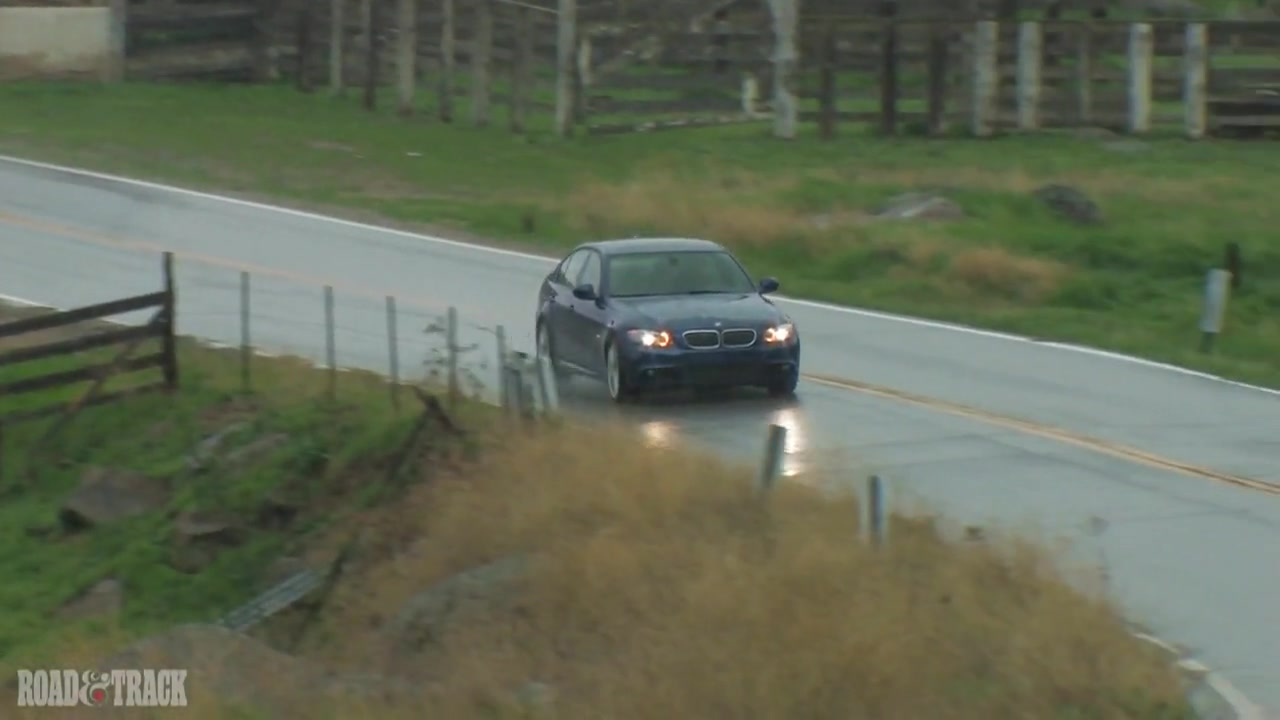car: (534, 237, 801, 402)
